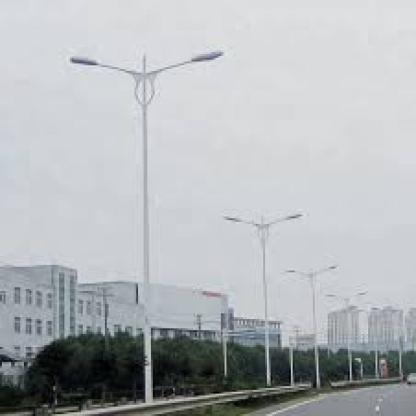light_pole: (70, 49, 225, 402), (224, 211, 302, 387), (285, 263, 337, 386), (326, 289, 368, 381)
